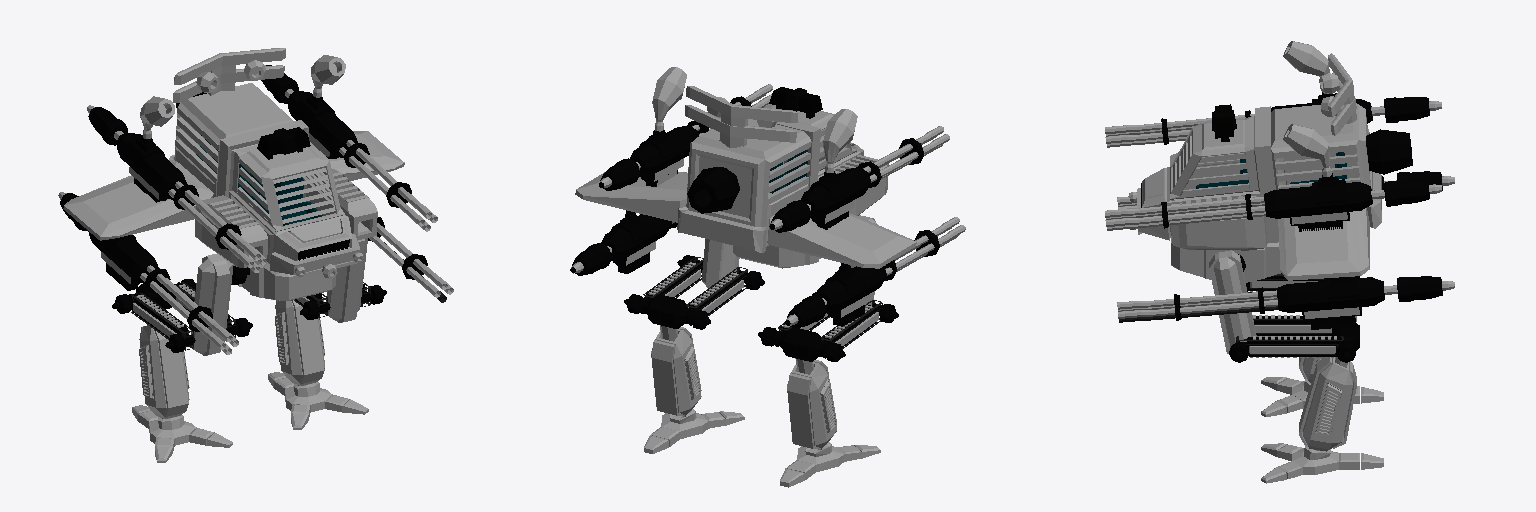
File: hoge2.obj
The picture shows the model from 3 angles: view 1: azimuth 30°, elevation 25°; view 2: azimuth 150°, elevation 25°; view 3: azimuth 270°, elevation 25°; orthographic projection.
Visible parts, largest first — view 1: Mech_F_432_Cube.002; view 2: Mech_F_432_Cube.002; view 3: Mech_F_432_Cube.002.
Boxes of the visible parts, x1=… form: Mech_F_432_Cube.002: x1=58, y1=48, x2=453, y2=462; Mech_F_432_Cube.002: x1=570, y1=67, x2=965, y2=487; Mech_F_432_Cube.002: x1=1105, y1=41, x2=1454, y2=483.
Size of the model in its own units: 6.12 by 6.78 by 6.11.